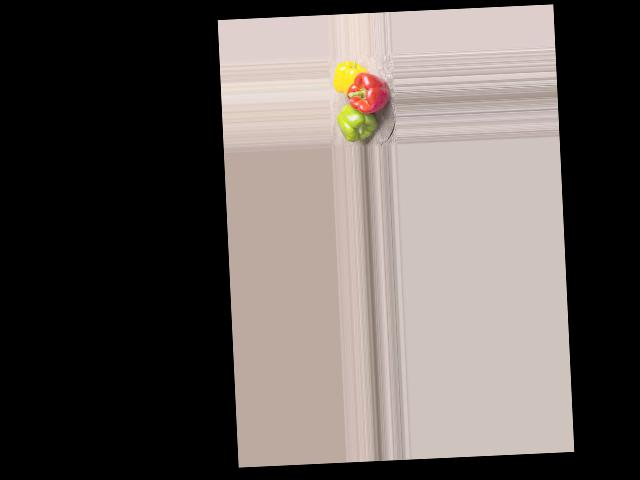bell_pepper: (330, 60, 369, 93)
